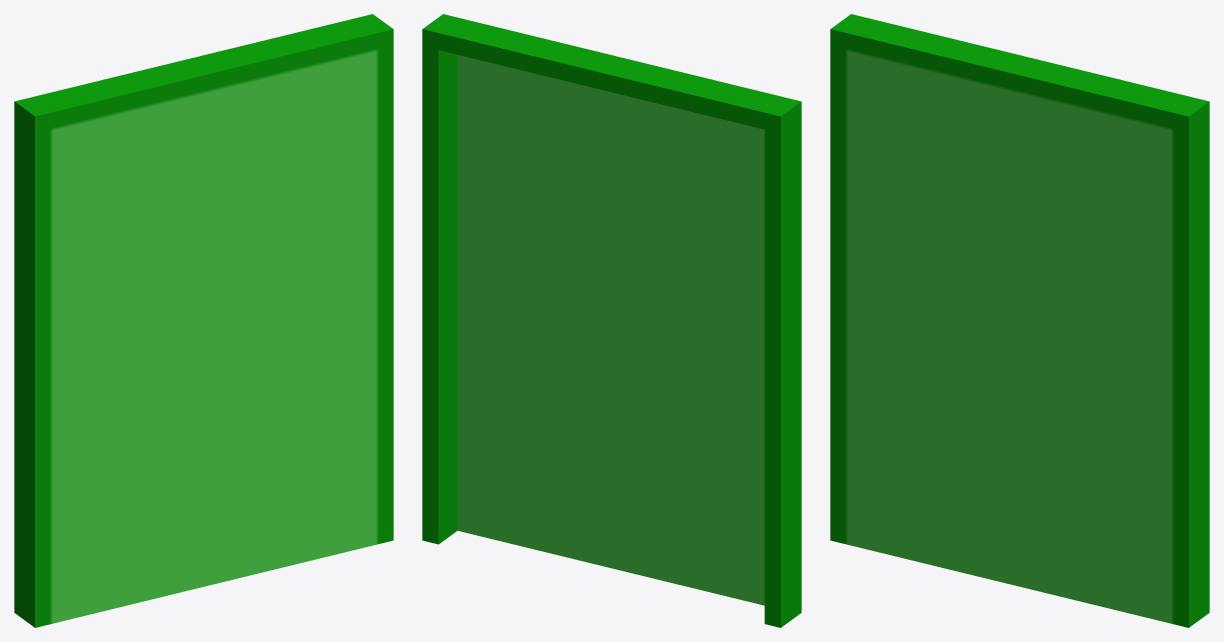
The model's file is Frame_Green.fbx.
The picture shows the model from 3 angles, left to right: view 1: azimuth 30°, elevation 25°; view 2: azimuth 150°, elevation 25°; view 3: azimuth 330°, elevation 25°; orthographic projection.
Parts seen in each view (by area): view 1: Frame_Green; view 2: Frame_Green; view 3: Frame_Green.
Part boxes in pixels (x1=…): Frame_Green: x1=14, y1=14, x2=393, y2=627; Frame_Green: x1=422, y1=14, x2=801, y2=627; Frame_Green: x1=830, y1=14, x2=1209, y2=627.
Bounding box in the file's own units: 110 × 150 × 11.
1 material, 1 textured.
